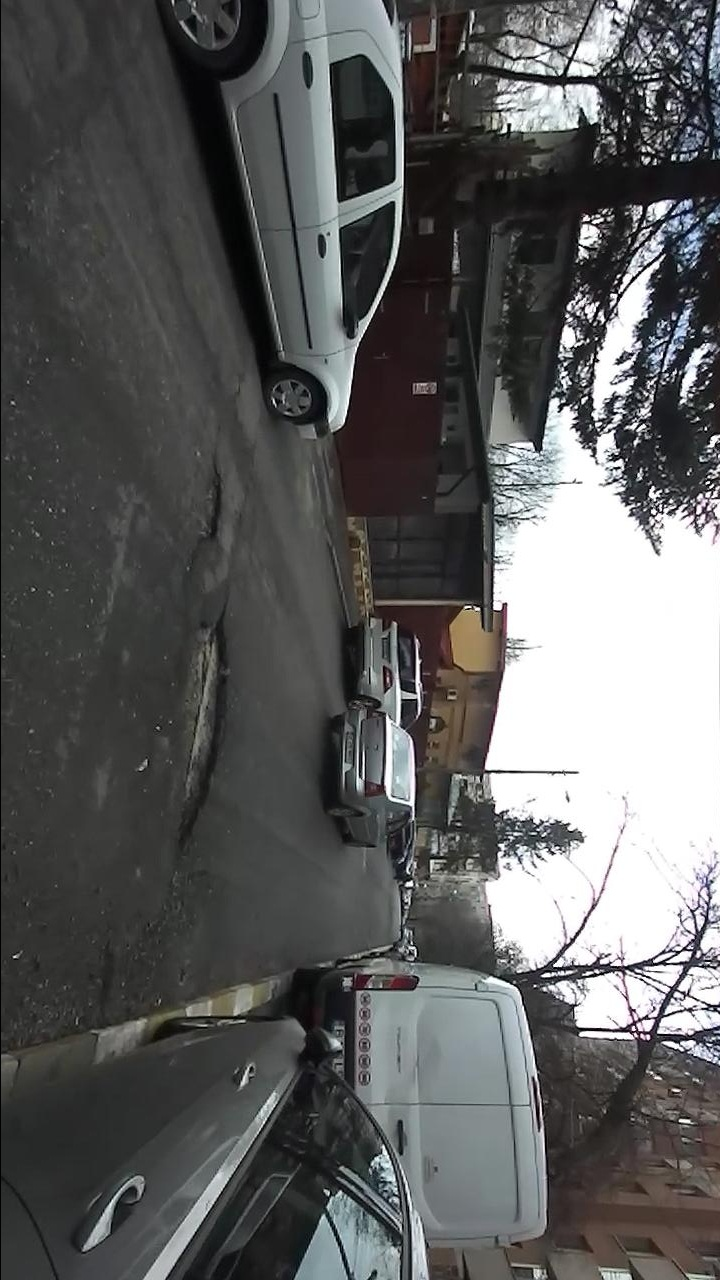pothole: (163, 605, 236, 865), (190, 455, 227, 559)
